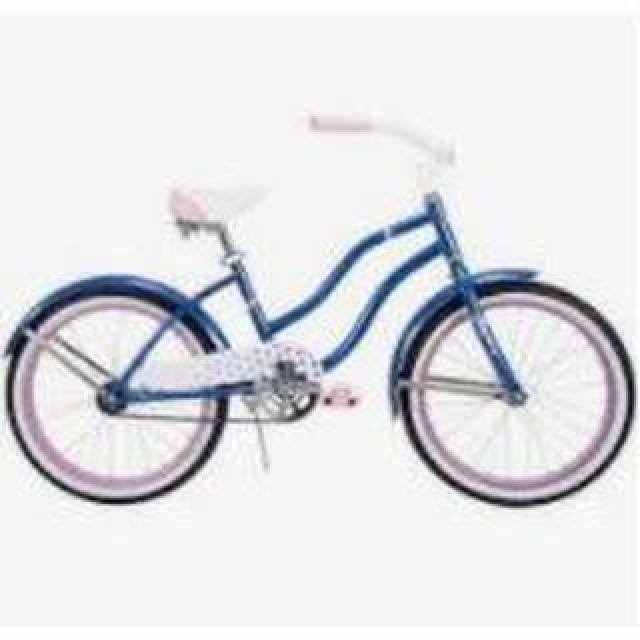Person: (0, 112, 640, 518)
